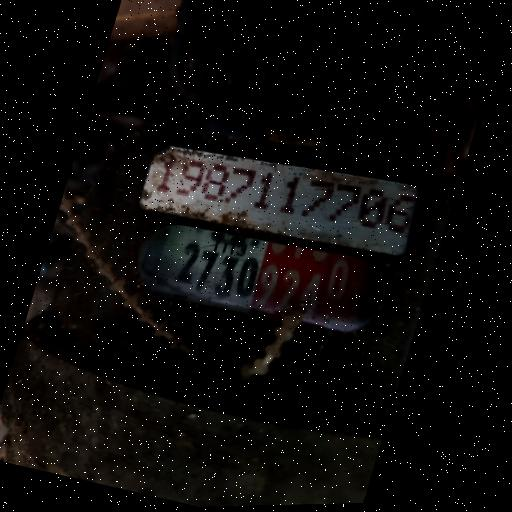0: (310, 252, 361, 333), (227, 236, 269, 313)
2: (165, 225, 210, 300), (269, 245, 313, 321)
3: (207, 233, 250, 310)
4: (290, 249, 336, 326)
7: (188, 230, 230, 305)
9: (249, 241, 292, 315)
border_water_meter_number: (124, 205, 395, 351)
